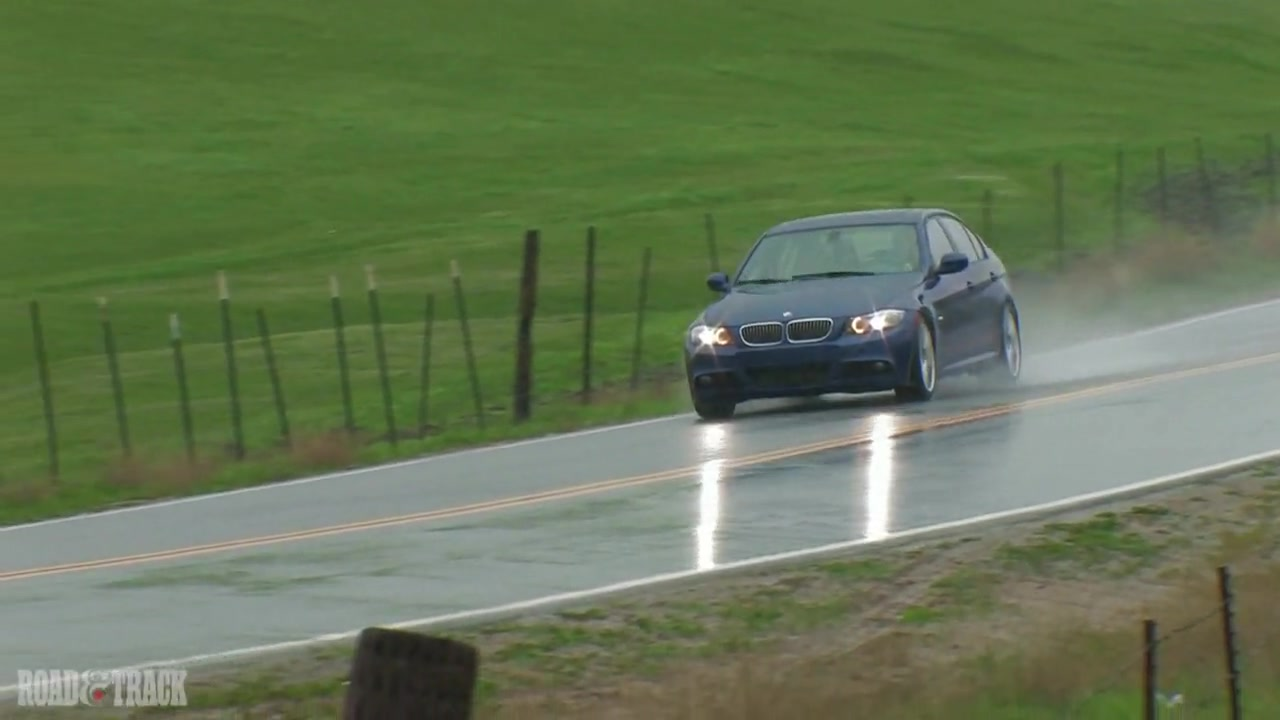car: (680, 207, 1025, 423)
